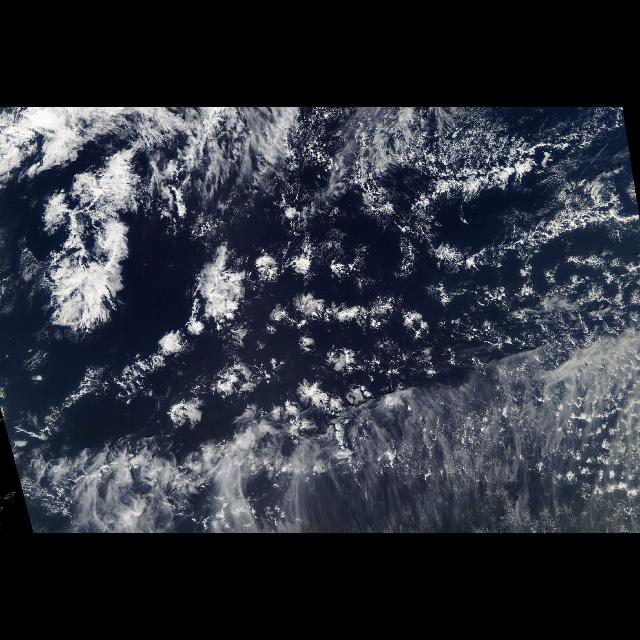Fish: (13, 125, 175, 358)
Flower: (154, 227, 414, 439)
